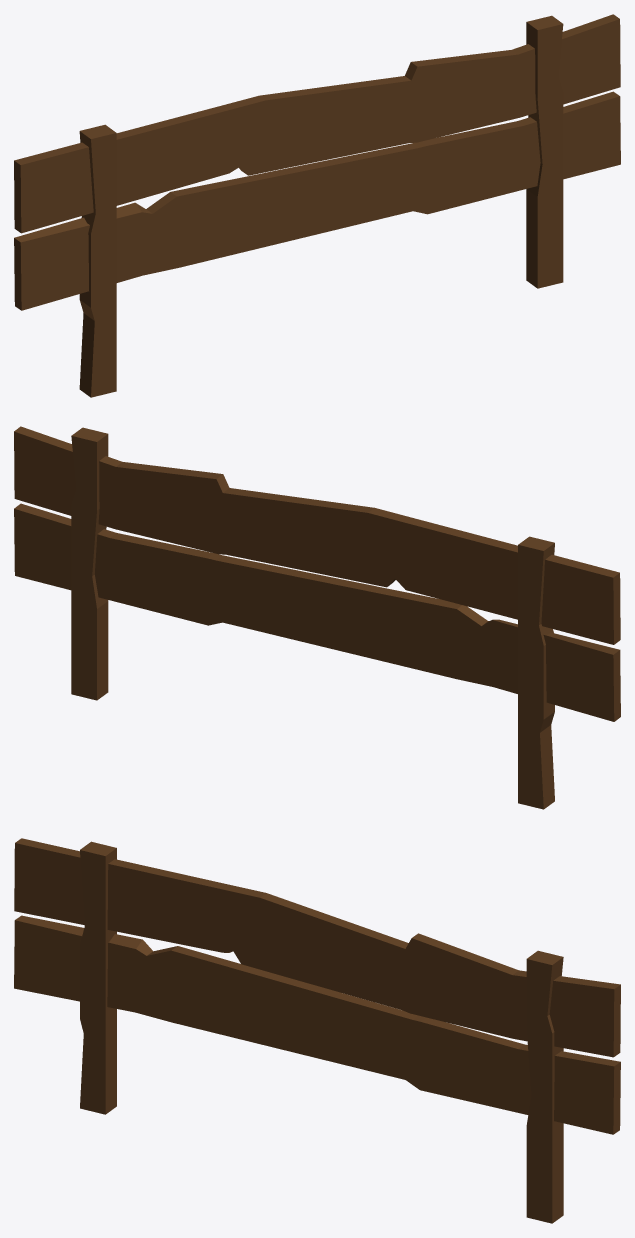
File: Fence.glb
3 renders of one model, top to bottom at view 1: azimuth 30°, elevation 25°; view 2: azimuth 150°, elevation 25°; view 3: azimuth 330°, elevation 25°, orthographic.
Visible parts, largest first — view 1: Fence; view 2: Fence; view 3: Fence.
Part boxes in pixels (<box>): Fence: <box>14,14,620,397</box>; Fence: <box>14,426,620,809</box>; Fence: <box>14,838,620,1223</box>.
Bounding box in the file's own units: 0.7894 × 0.3254 × 0.0258.
